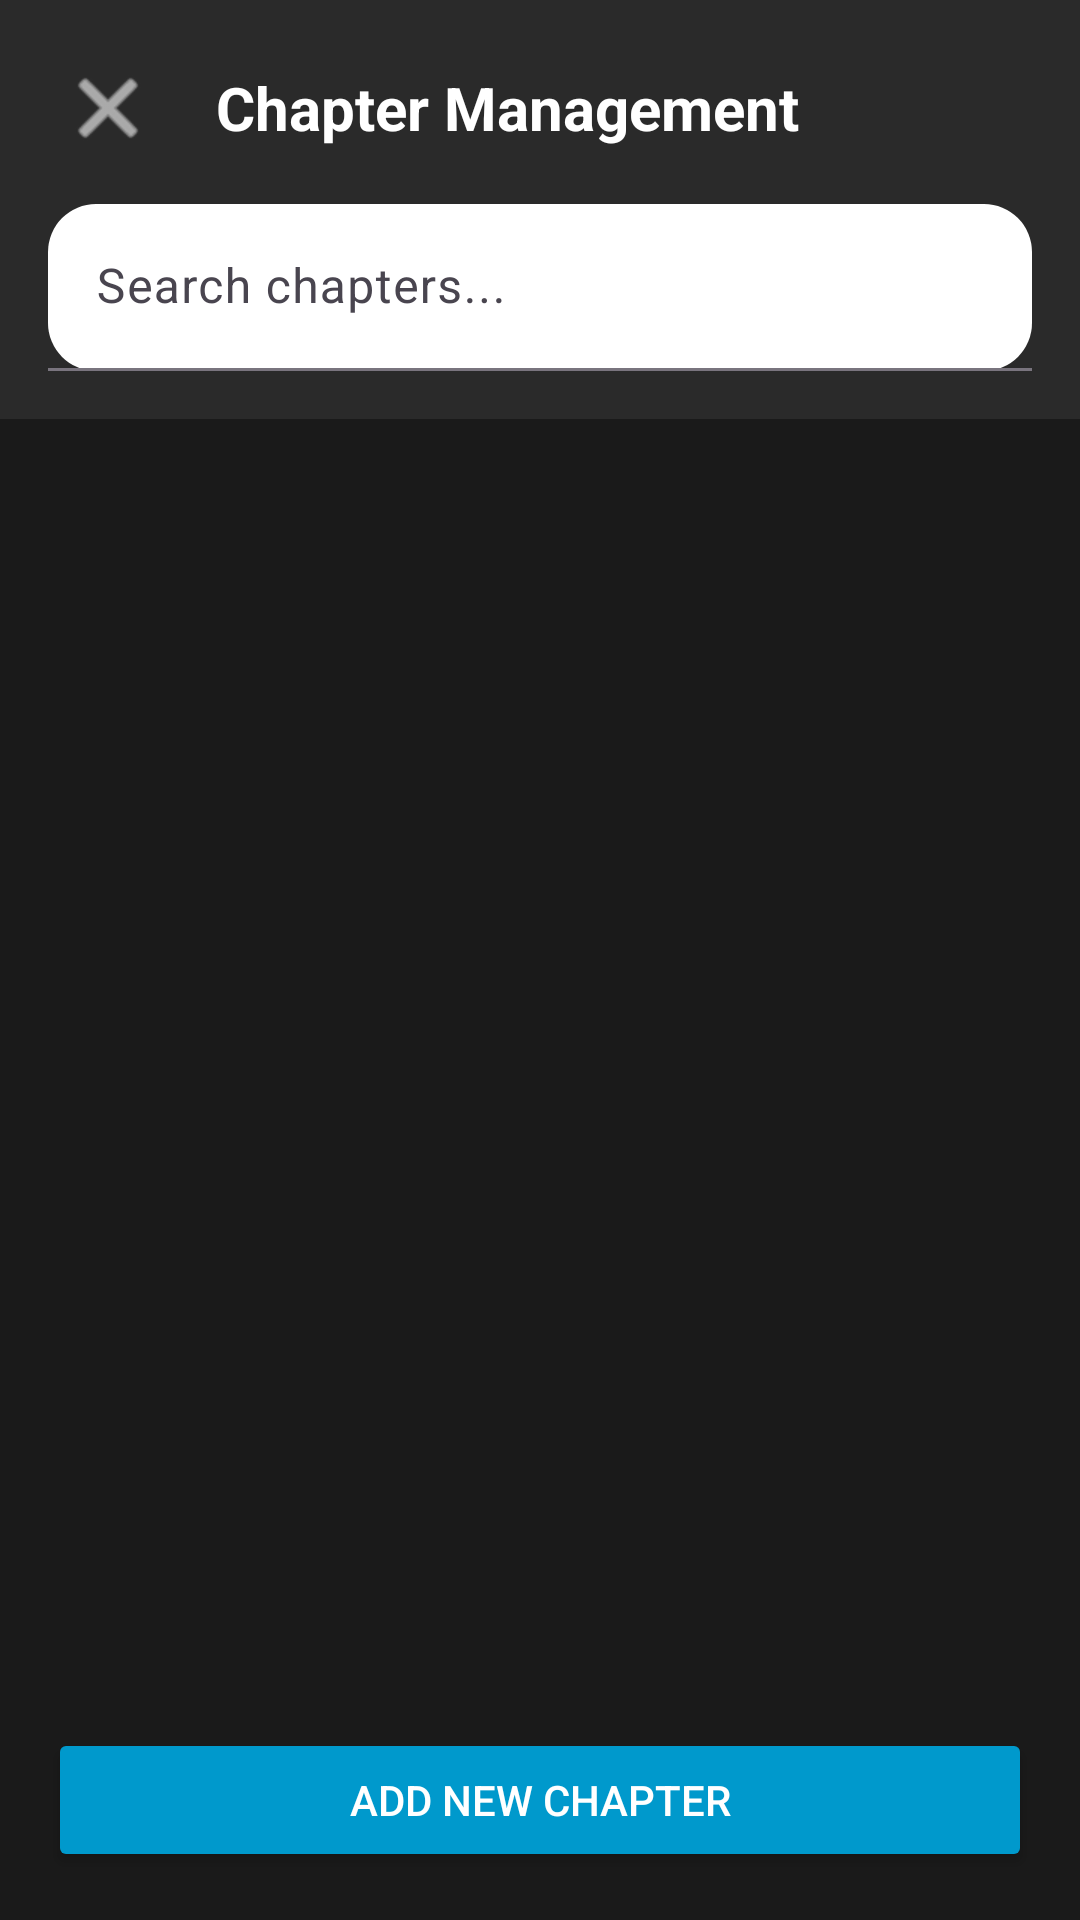

Screen size 1080*1920. Icon name, then its center in pixels as (x,y):
close clear cancel: (108,108)
